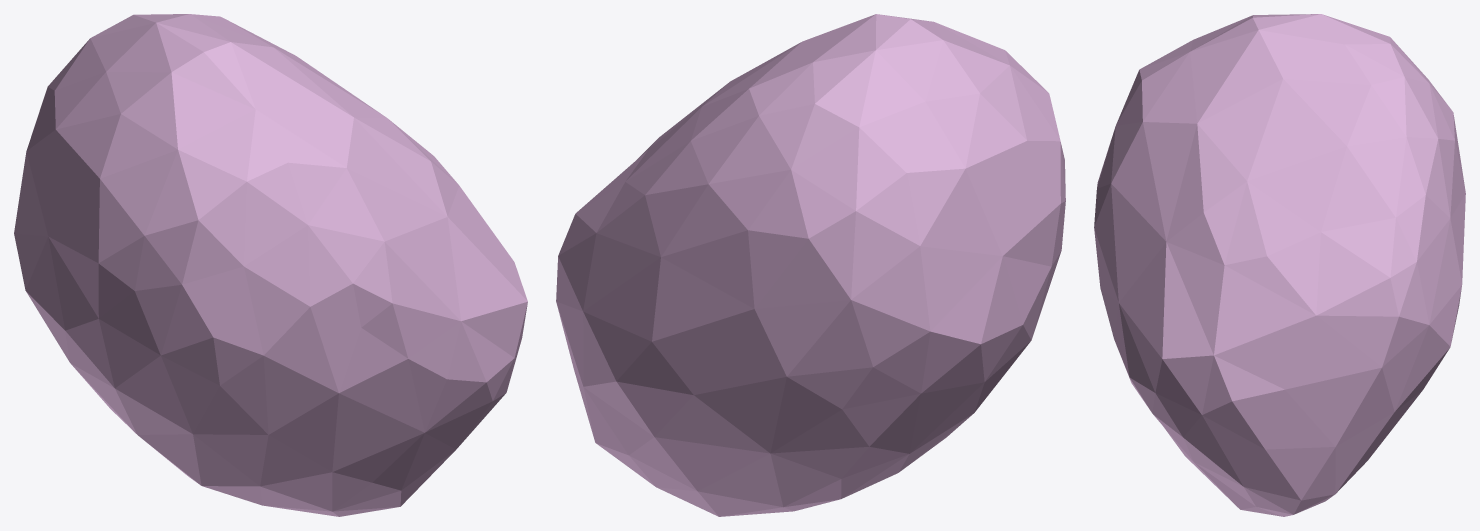
3 views of the same model, side by side, from view 1: azimuth 30°, elevation 25°; view 2: azimuth 150°, elevation 25°; view 3: azimuth 270°, elevation 25° (orthographic). The views are drawn at different scales.
Parts seen in each view (by area): view 1: 607344834.obj; view 2: 607344834.obj; view 3: 607344834.obj.
Part boxes in pixels (left/top/right/bottom): 607344834.obj: left=14, top=14, right=527, bottom=516; 607344834.obj: left=556, top=14, right=1065, bottom=516; 607344834.obj: left=1094, top=14, right=1465, bottom=516.
Bounding box in the file's own units: 472 × 530 × 424.
